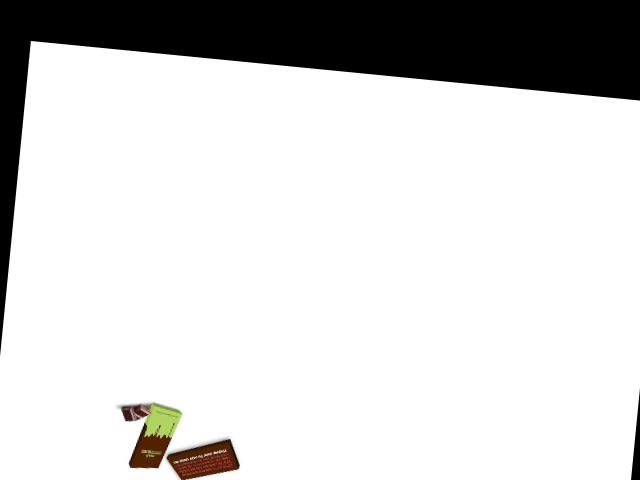chocolate: (133, 399, 179, 473)
